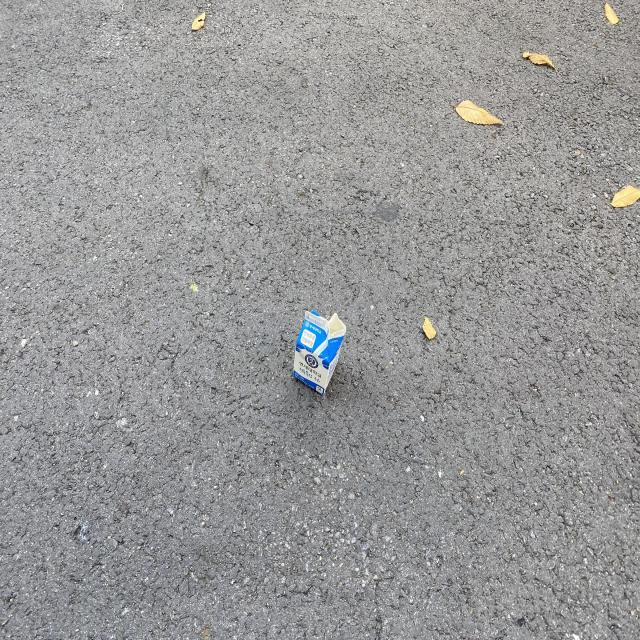paperpack: (293, 311, 345, 394)
